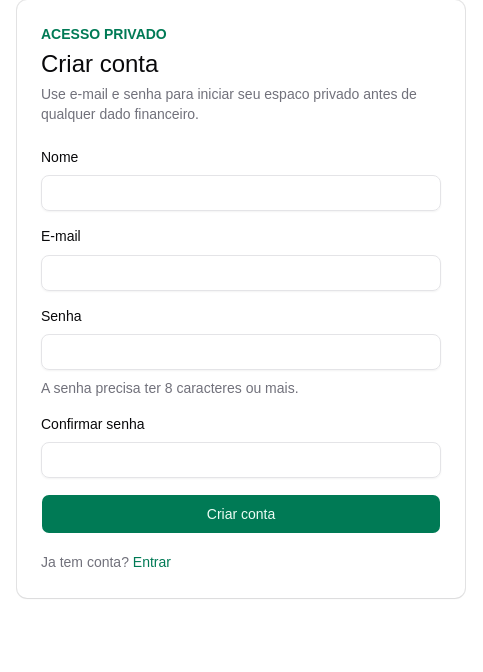
Test case: SignUpPage › validates email and password confirmation while typing
Step 1. Type "ana" into the field labelled "E-mail" → (241, 272), box [41,254,441,290]
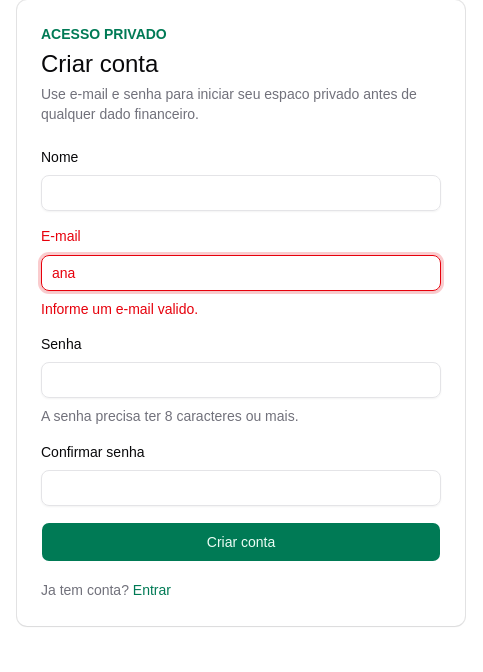
expect the text "Informe um e-mail valido." is shown: met, box [41,300,198,316]
Step 2. Type "senhaforte" into the password field labelled "Senha" → (241, 380), box [41,362,441,398]
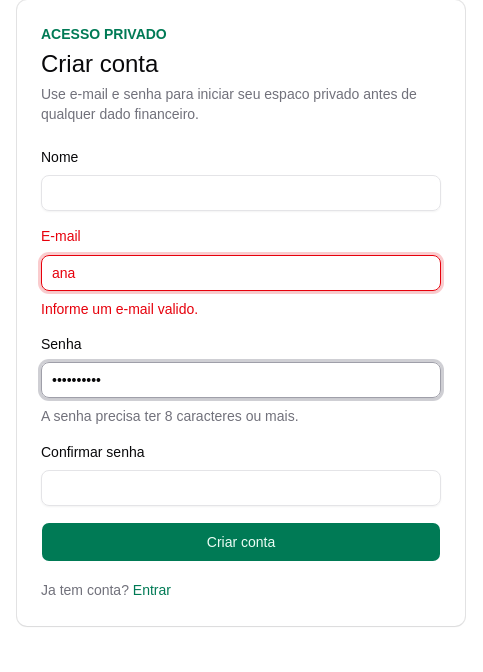
Step 3. Type "diferente" into the password field labelled "Confirmar senha" → (241, 488), box [41,470,441,506]
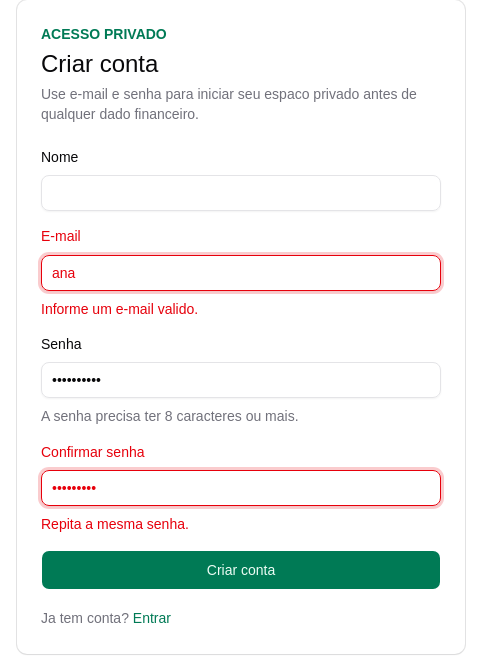
expect the text "Repita a mesma senha." is shown: met, box [41,516,189,532]
